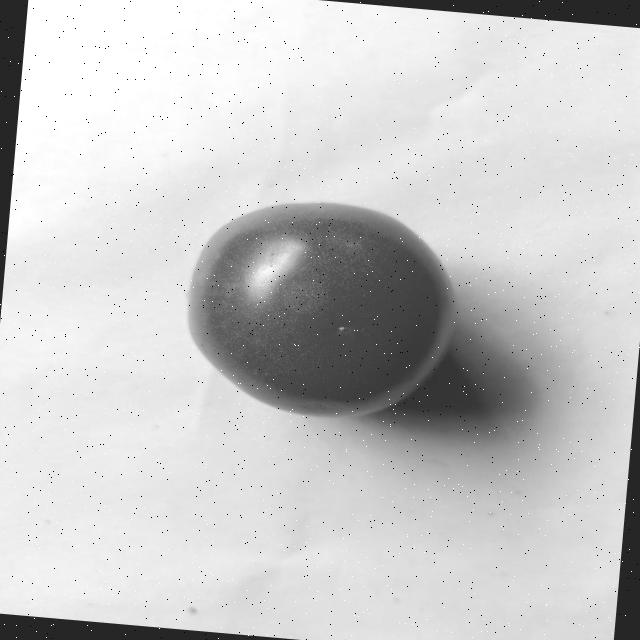Tomato: (176, 186, 470, 428)
